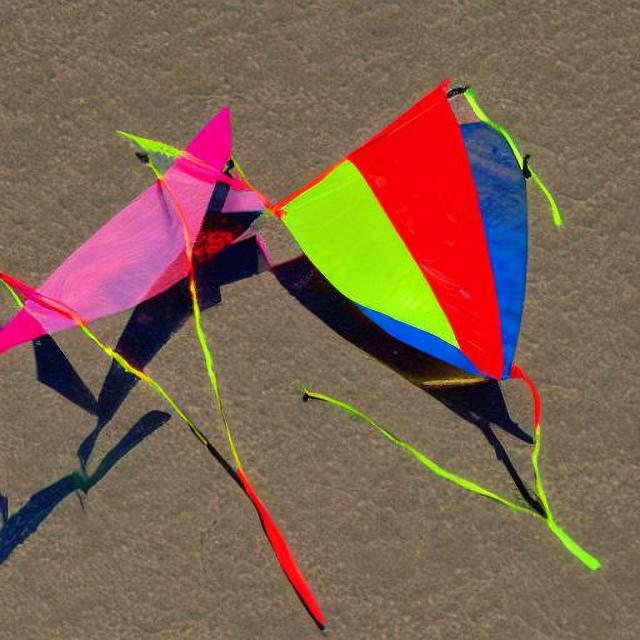floating object: (18, 81, 594, 420)
